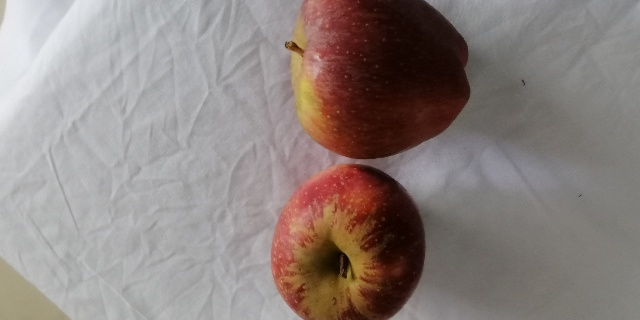apple_kashmir: (286, 0, 475, 160), (272, 171, 425, 320)
